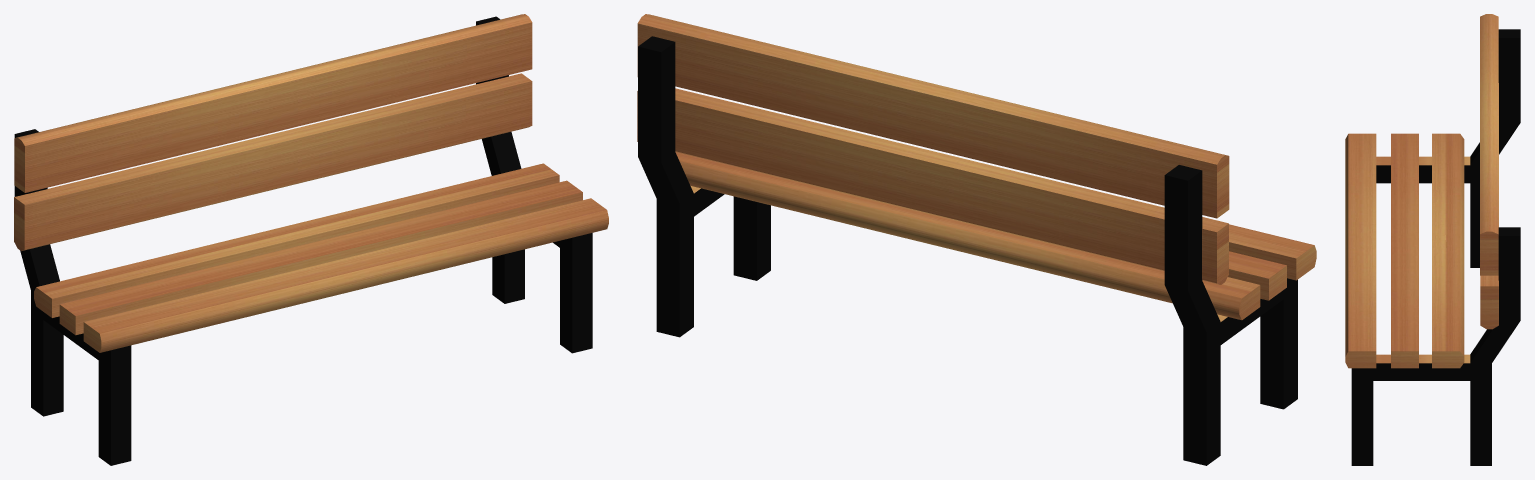
Rendered from bench.FBX.
3 renders of one model, left to right at view 1: azimuth 30°, elevation 25°; view 2: azimuth 150°, elevation 25°; view 3: azimuth 270°, elevation 25°, orthographic. The views are drawn at different scales.
Parts seen in each view (by area): view 1: pCube6, pCube7, pCube3, pCube4, pCube5, pCube1, pCube2; view 2: pCube6, pCube7, pCube5, pCube1, pCube2, pCube3, pCube4; view 3: pCube2, pCube5, pCube3, pCube4, pCube6, pCube1, pCube7.
Part boxes in pixels (bbox=[...]): pCube6: bbox=[14, 14, 532, 192]; pCube7: bbox=[14, 73, 532, 251]; pCube3: bbox=[83, 198, 608, 352]; pCube4: bbox=[59, 180, 582, 335]; pCube5: bbox=[34, 163, 559, 317]; pCube1: bbox=[14, 129, 131, 465]; pCube2: bbox=[476, 16, 592, 353]; pCube6: bbox=[637, 14, 1229, 218]; pCube7: bbox=[637, 88, 1228, 284]; pCube5: bbox=[675, 152, 1260, 320]; pCube1: bbox=[1164, 165, 1297, 465]; pCube2: bbox=[638, 36, 770, 337]; pCube3: bbox=[1229, 224, 1316, 280]; pCube4: bbox=[1228, 251, 1286, 300]; pCube2: bbox=[1351, 227, 1520, 465]; pCube5: bbox=[1432, 133, 1464, 368]; pCube3: bbox=[1345, 133, 1376, 368]; pCube4: bbox=[1391, 133, 1418, 368]; pCube6: bbox=[1480, 14, 1498, 275]; pCube1: bbox=[1376, 29, 1520, 267]; pCube7: bbox=[1480, 83, 1498, 329].
Size of the model in its own units: 168 by 86.09 by 56.98.
Materials: 1 (1 with a texture image).
